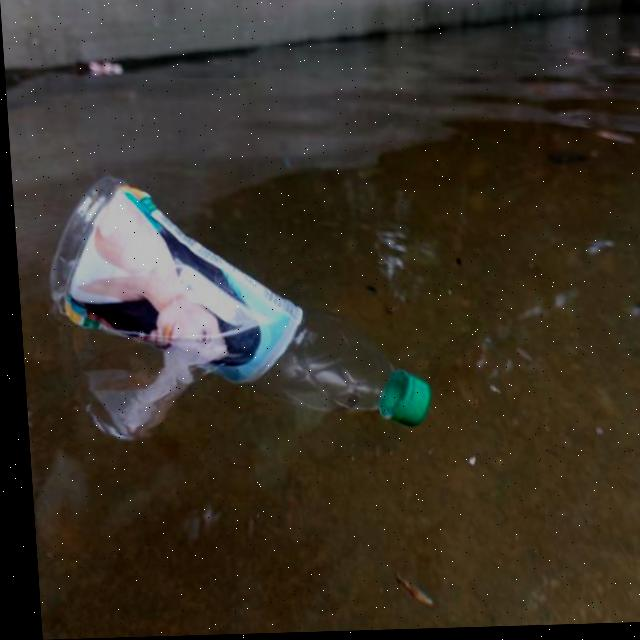waterbottle: (33, 145, 436, 457)
